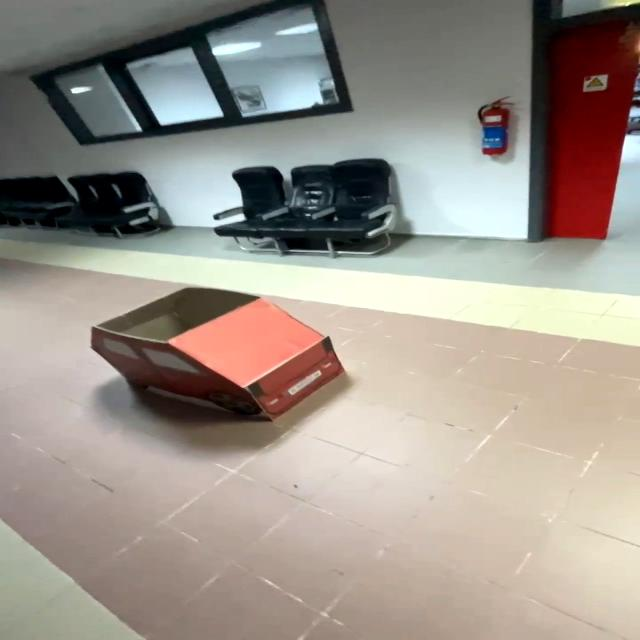red_car: (66, 272, 377, 439)
